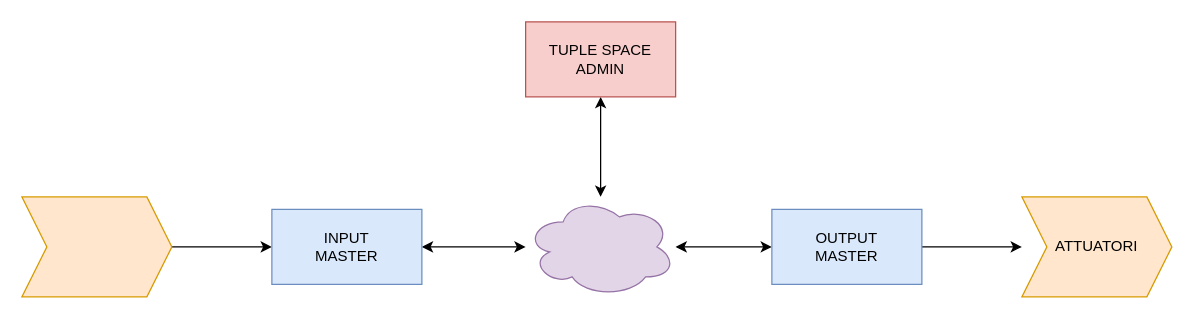
Some shapes in this 1194 by 319 pixel diagram are drawn without their labels. Each missing label, with the centre of its shape:
SENSORI DI GAS: the point at 96,246
TUPLE SPACE: the point at 600,246
